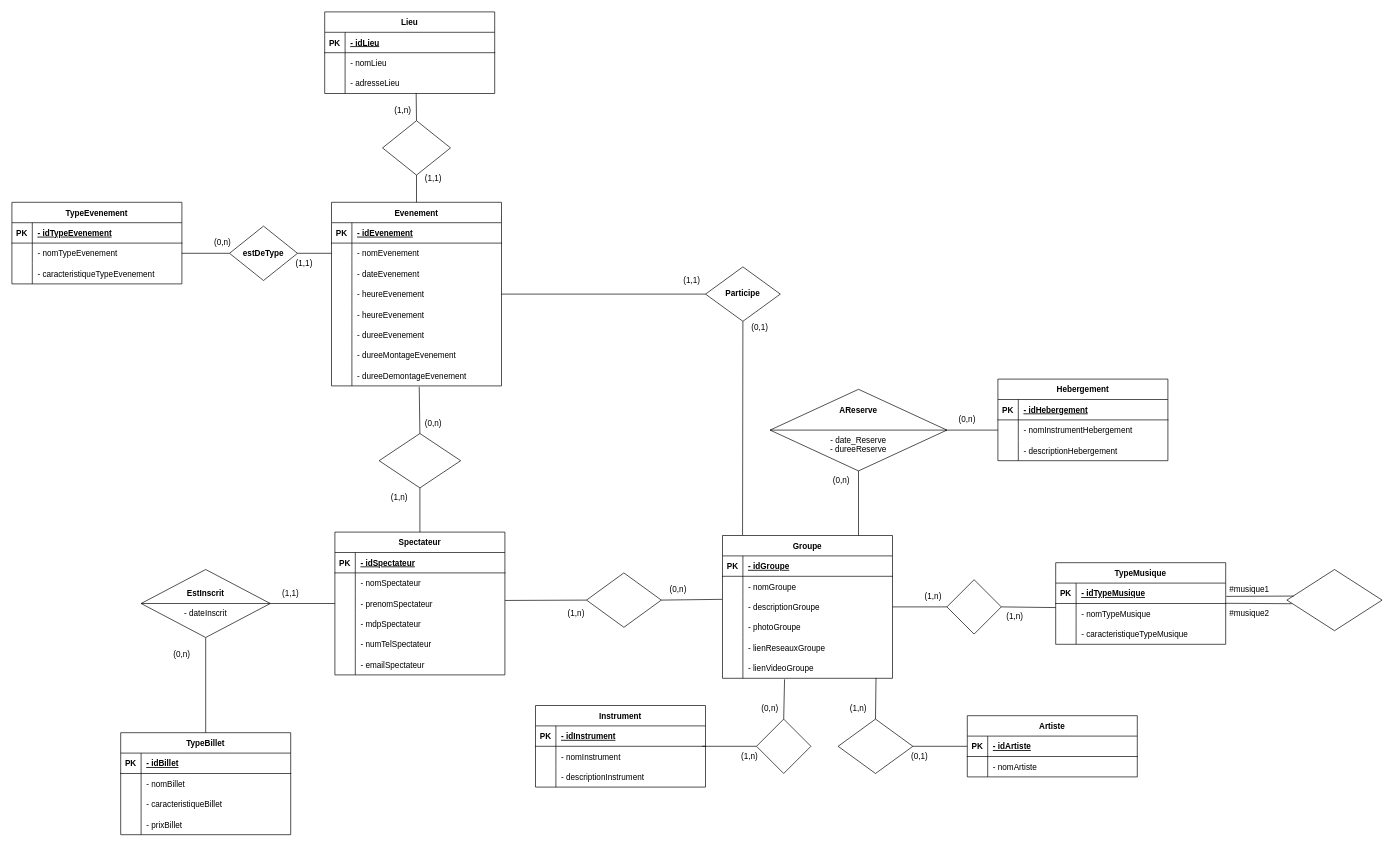
Image size: 1394x847. Some labels were removed from this diagram. Each missing label, with the centre of its shape:
"Chante" goes at point (973, 606).
"EstFavorie" goes at point (623, 599).
"FaitPartie" goes at point (875, 746).
"Joue" goes at point (783, 746).
"PaireMusique" goes at point (1334, 600).
"Préinscrit" goes at point (419, 460).
"seSitue" goes at point (416, 147).
